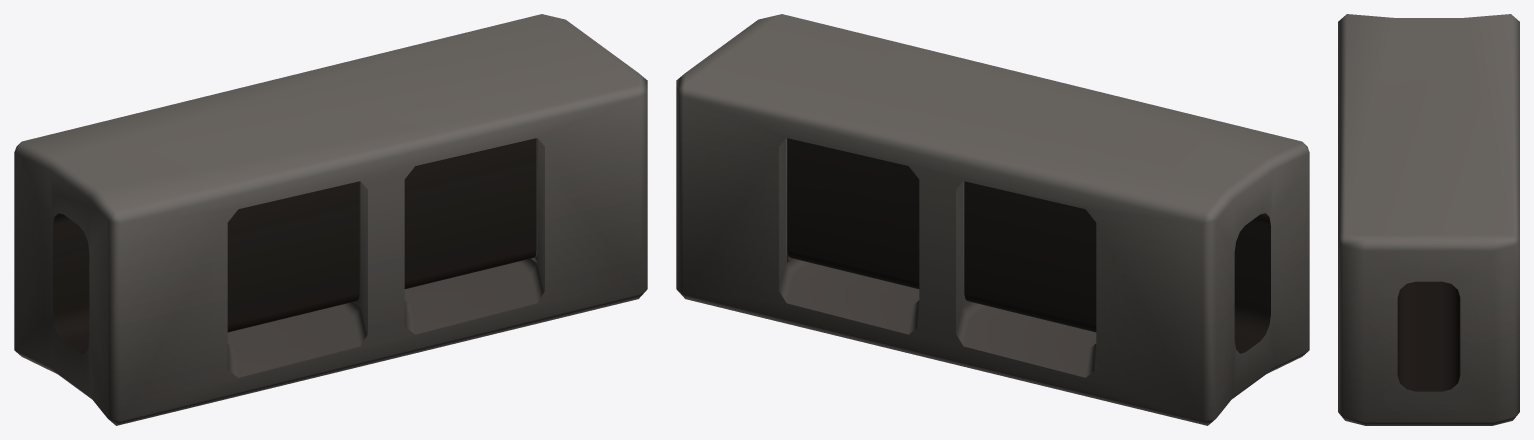
File: Muzzle_Caliber2_02.fbx
The picture shows the model from 3 angles, left to right: view 1: azimuth 30°, elevation 25°; view 2: azimuth 150°, elevation 25°; view 3: azimuth 270°, elevation 25°; orthographic projection. The views are drawn at different scales.
Visible parts, largest first — view 1: Muzzle_Caliber2_02; view 2: Muzzle_Caliber2_02; view 3: Muzzle_Caliber2_02.
Boxes of the visible parts, x1,y1,x2,y2 form: Muzzle_Caliber2_02: (14,14,647,425); Muzzle_Caliber2_02: (676,14,1309,425); Muzzle_Caliber2_02: (1338,14,1519,425).
Bounding box in the file's own units: 23.18 × 8.67 × 7.65.
